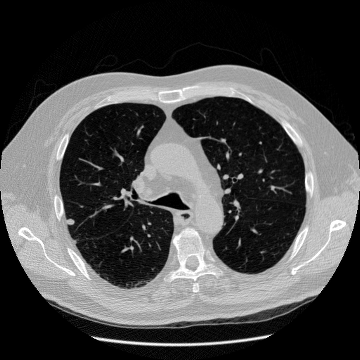nodule: (66, 218, 74, 226)
